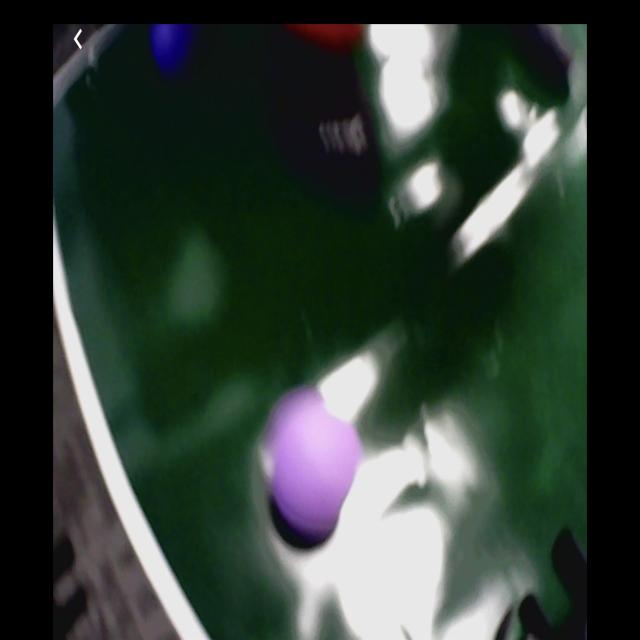ball: (269, 388, 365, 538), (153, 23, 189, 75)
